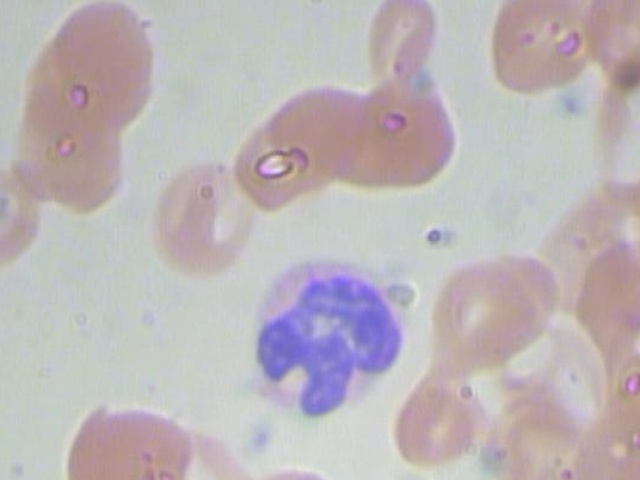Platelets: (235, 407, 288, 459), (389, 470, 442, 480)
RBC: (224, 72, 379, 220), (311, 75, 463, 197), (0, 89, 140, 218), (20, 0, 164, 124), (471, 0, 620, 107), (145, 153, 267, 275), (426, 249, 537, 365), (382, 360, 492, 477), (50, 400, 194, 480), (358, 0, 443, 96), (584, 65, 640, 201), (0, 150, 45, 285), (604, 343, 640, 480), (213, 458, 358, 480)
WBC: (239, 244, 411, 426)
